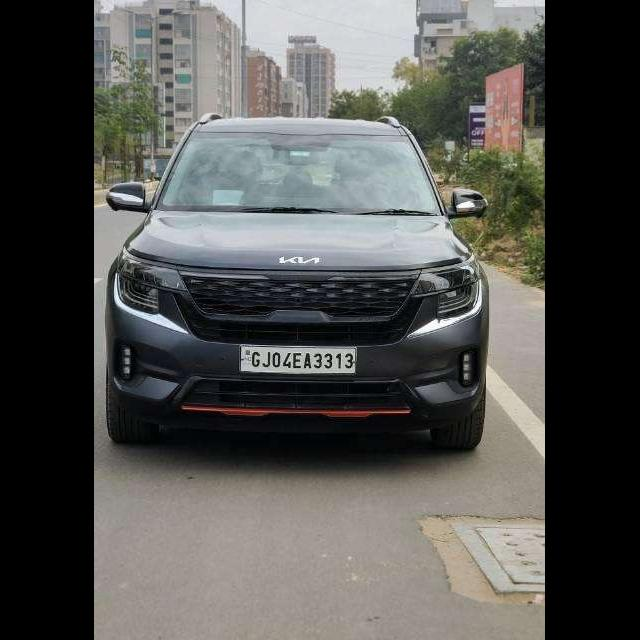Indian_Number_Plate: (242, 346, 357, 374)
